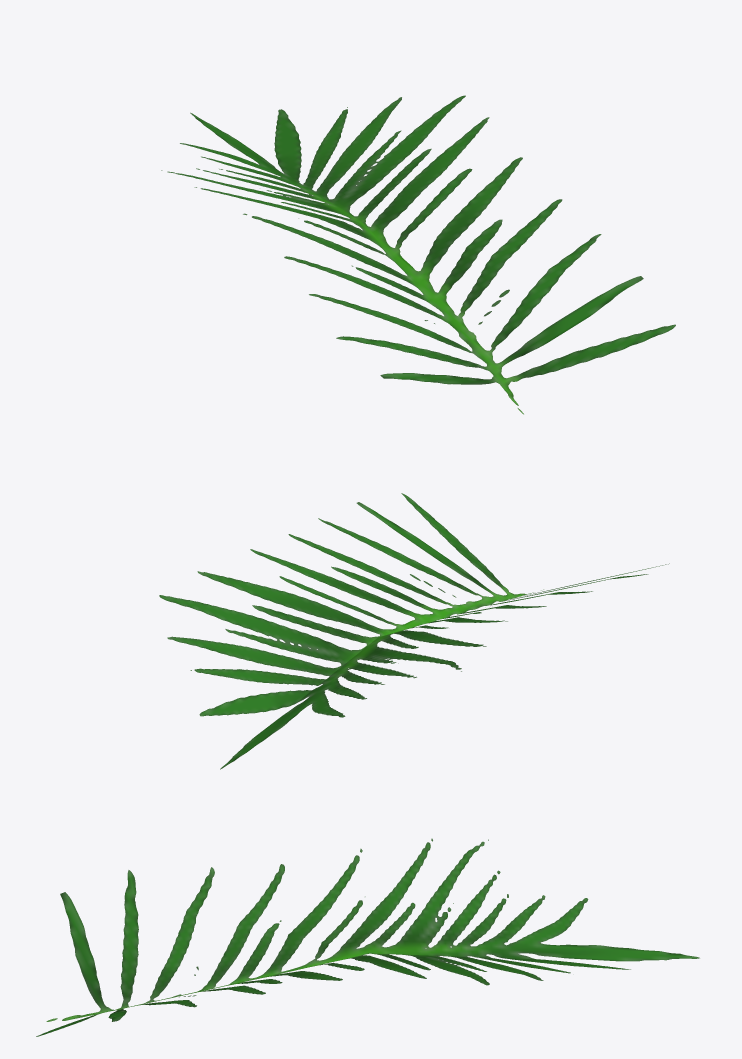
Rendered from Leaf_Style_D.fbx.
The picture shows the model from 3 angles, top to bottom: view 1: azimuth 30°, elevation 25°; view 2: azimuth 150°, elevation 25°; view 3: azimuth 270°, elevation 25°; orthographic projection.
Parts seen in each view (by area): view 1: Leaf_Style_D; view 2: Leaf_Style_D; view 3: Leaf_Style_D.
Boxes of the visible parts, box(x1,y1,x2,y2) form: Leaf_Style_D: box(161, 95, 675, 414); Leaf_Style_D: box(159, 493, 669, 769); Leaf_Style_D: box(36, 838, 699, 1036).
Bounding box in the file's own units: 72.42 × 27.48 × 127.
